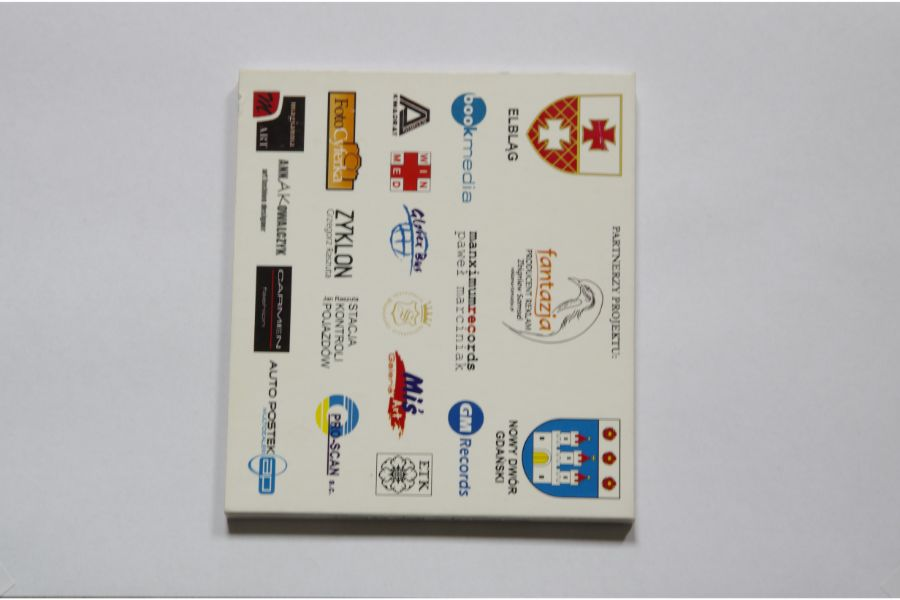album: (224, 67, 638, 521)
